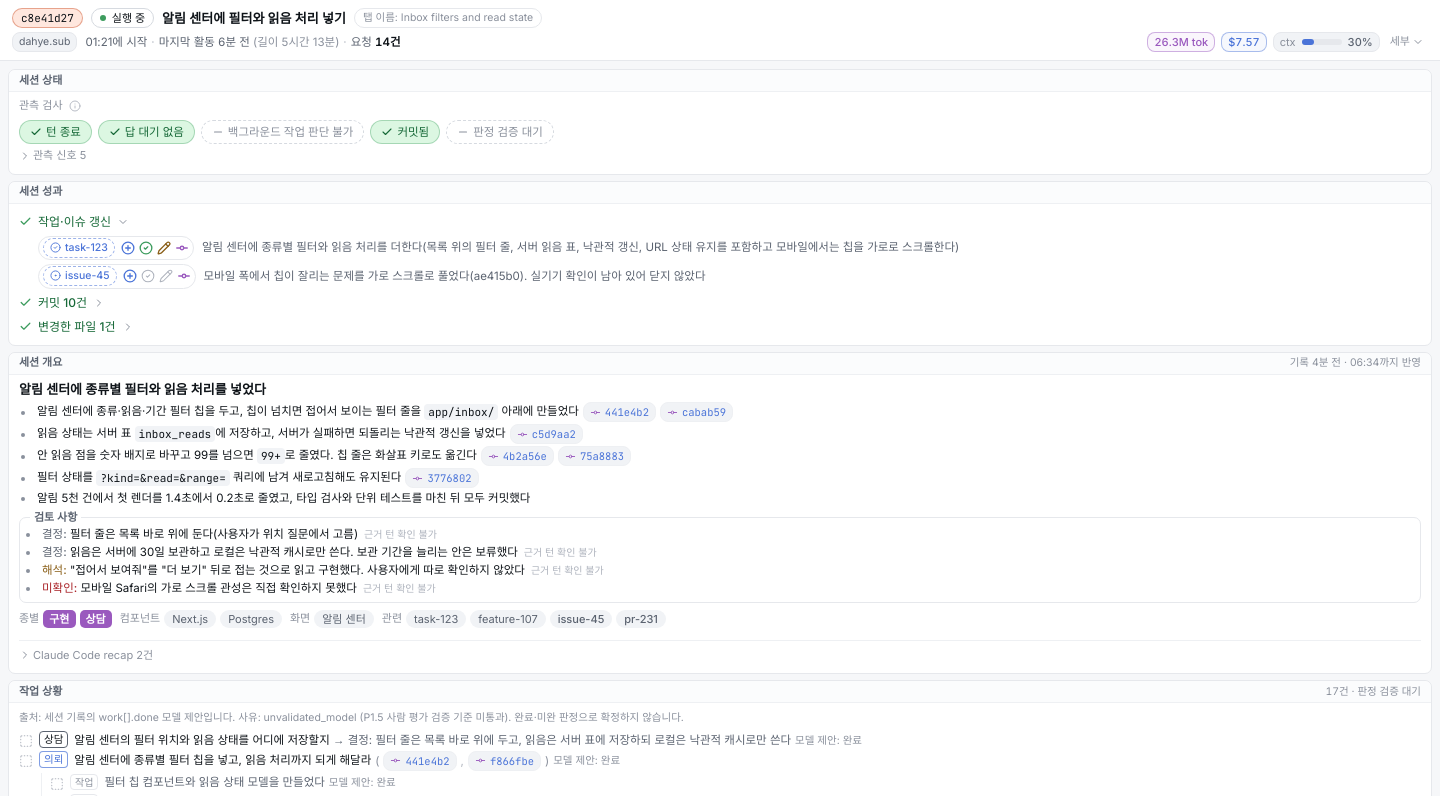
세션 성과: 세 줄을 펼치고 접는다 › fixture-p4-git-witness-v2: 접힌 요약은 active_total 2가 아니라 관측 경로 한 개를 보여준다
What coordinates should you click on to do the following:
click the button "변경한 파일 1건"
I would click on:
 (77, 326)
Its box is [19,317,1421,337].
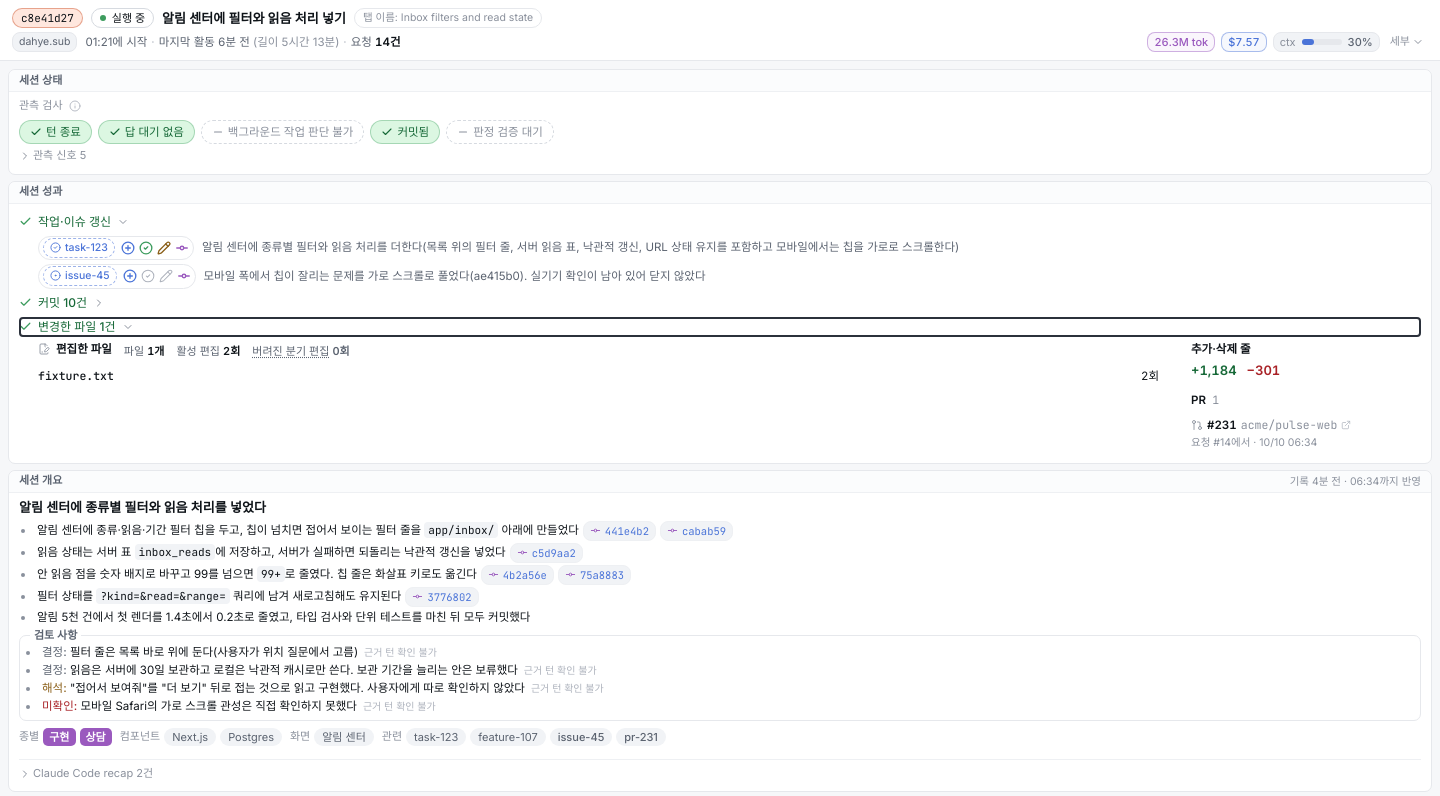
Expected: the text "fixture.txt" is shown, [38,368,114,384]
Expected: the text titled "활성 경로의 편집 횟수" in the row of "fixture.txt" reads "2회", [1141,368,1159,384]
